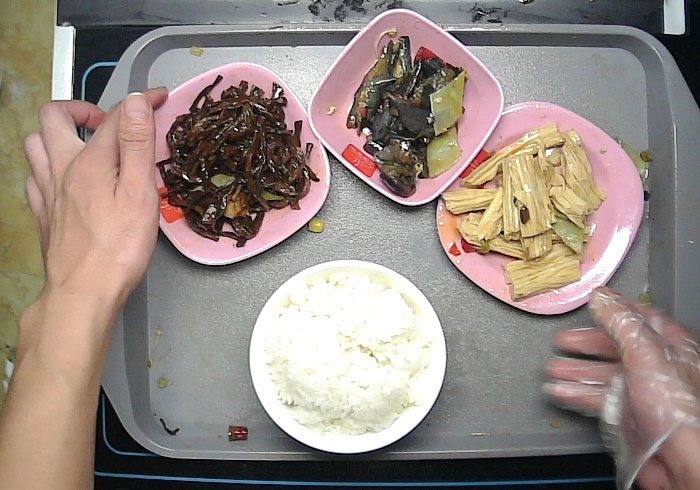SHKJ-Fan_Wan: (249, 260, 447, 457)
SHKJ-Fen_Se_Cai_Die: (128, 62, 332, 263)
SHKJ-Fen_Se_Si_Fang_Cai_Die: (433, 103, 647, 314)
SHKJ-Fen_Se_Xiao_Fang_Die: (306, 9, 504, 208)
